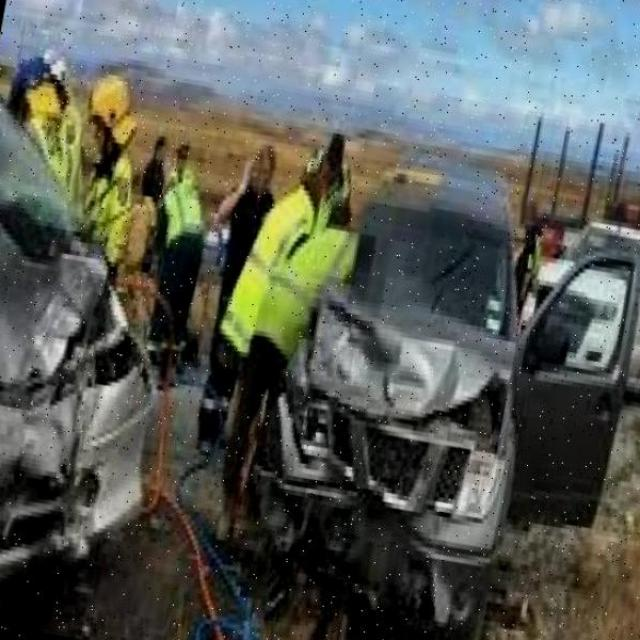accident: (220, 164, 596, 640), (1, 48, 219, 598)
